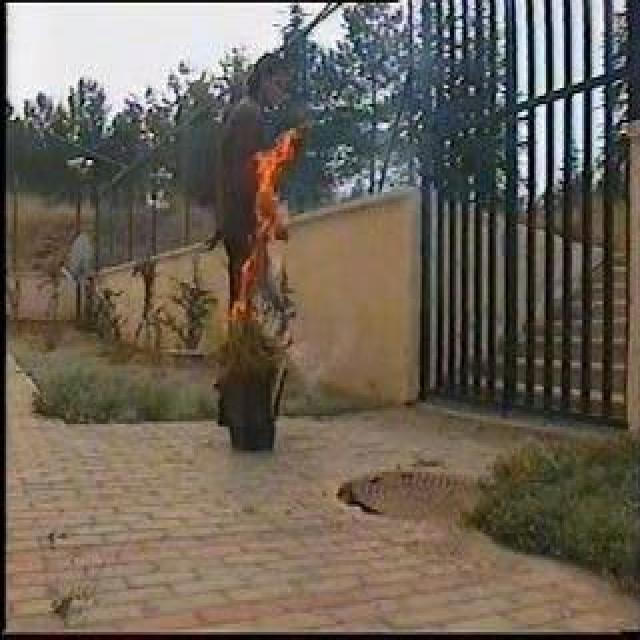Fire: (254, 137, 296, 279)
